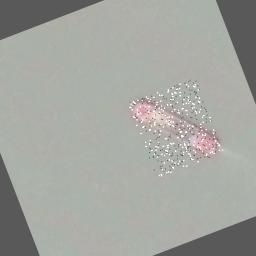boat: (128, 78, 224, 178)
